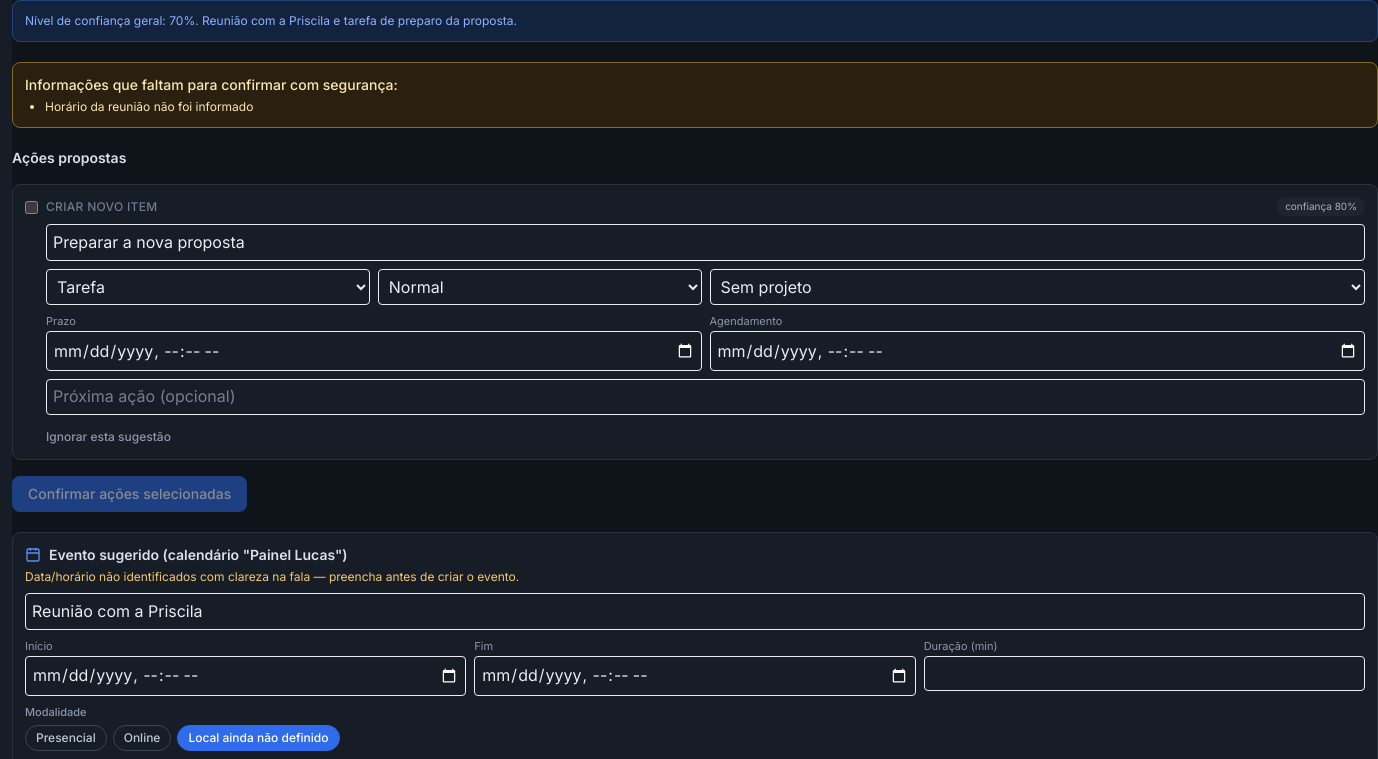
Scenario: AudioCaptureReview — validação de intervalo do evento › nunca cria o evento sozinha: exige data/hora preenchidas e clique explícito
The width and height of the screenshot is (1378, 759).
expect the text "Data/horário não identificados com clareza" is shown: met, box [25,569,519,584]
Type "2026-08-05T10:00" into the field labelled "Início" at (246,676), box [25,656,466,696]
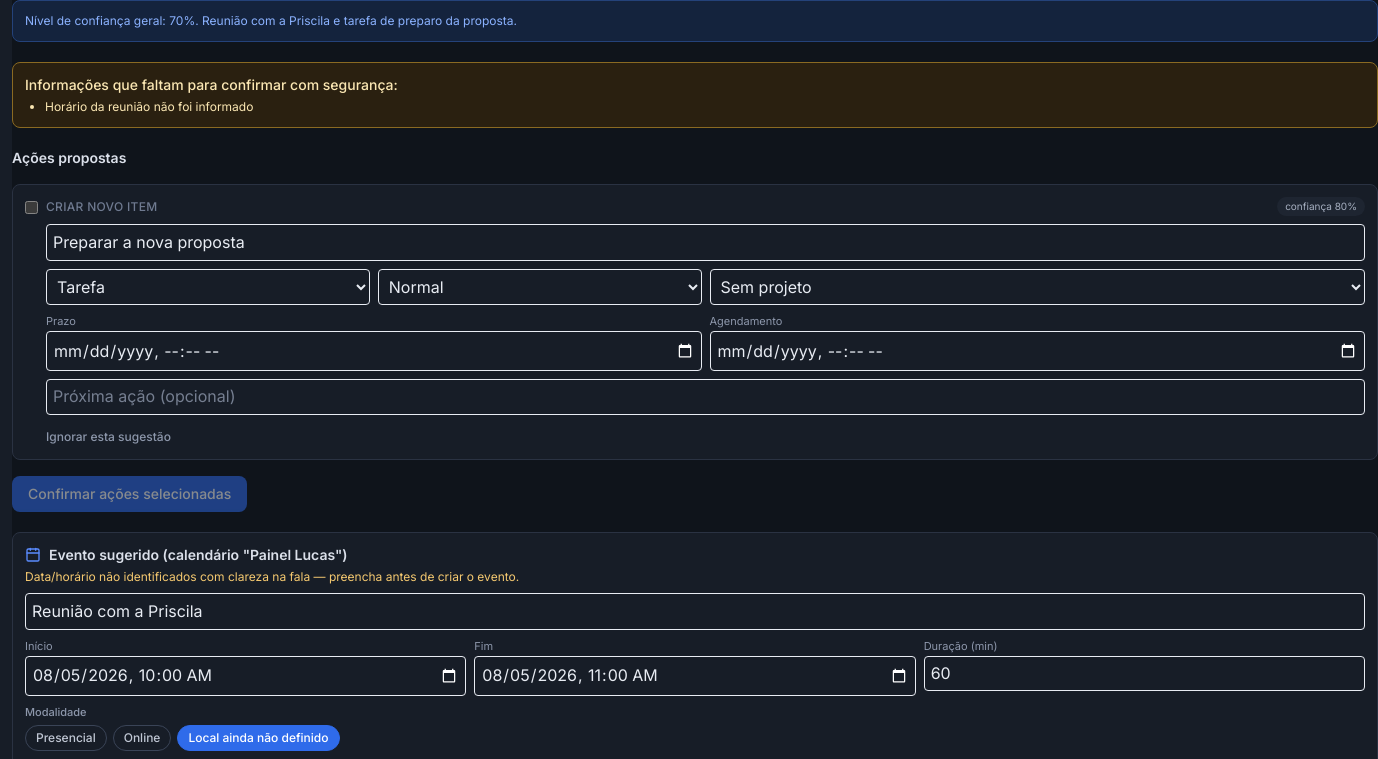
expect the number field named "Duração em minutos" holds "60": met, box [924,656,1365,691]
